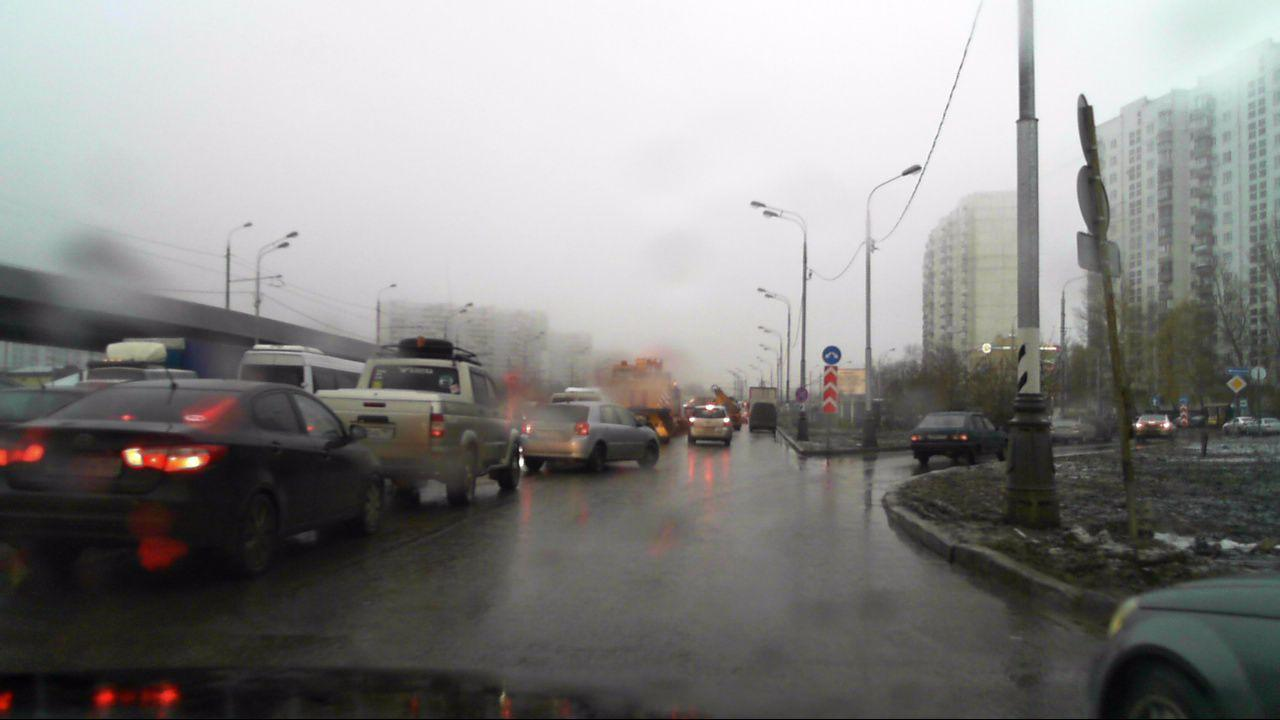road_sign: (823, 365, 838, 414), (821, 346, 841, 364), (1226, 376, 1247, 393), (1226, 367, 1249, 375), (1180, 405, 1188, 426)
